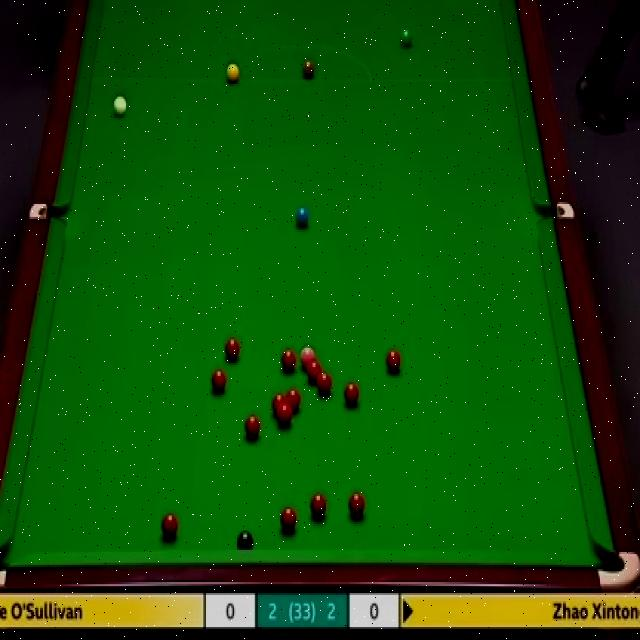black-ball: (236, 530, 254, 550)
blue-ball: (293, 202, 310, 229)
brown-ball: (302, 59, 314, 79)
green-ball: (397, 28, 414, 49)
pink-ball: (301, 346, 316, 370)
red-ball: (384, 348, 402, 379), (348, 490, 365, 519), (160, 512, 178, 539), (310, 492, 327, 520), (343, 381, 359, 408), (286, 388, 302, 415), (211, 371, 228, 396), (281, 506, 297, 532), (244, 414, 260, 440), (306, 359, 322, 383), (317, 372, 332, 396), (226, 338, 240, 361), (278, 406, 292, 427), (282, 351, 296, 372), (272, 393, 286, 414)
white-ball: (112, 93, 128, 119)
yellow-ball: (225, 61, 240, 83)
